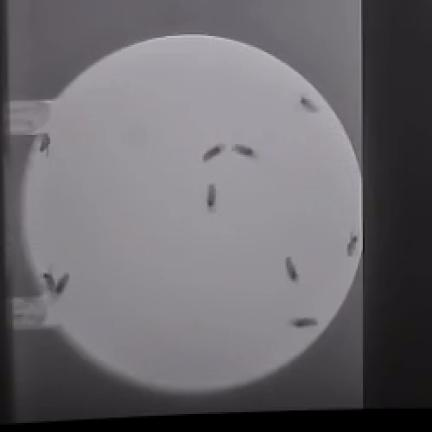fly: (203, 144, 224, 161), (232, 144, 255, 158), (286, 258, 298, 282), (56, 274, 69, 295), (42, 272, 55, 293), (301, 96, 317, 113), (39, 134, 50, 156), (293, 317, 317, 327), (348, 234, 357, 255), (208, 184, 215, 210)
